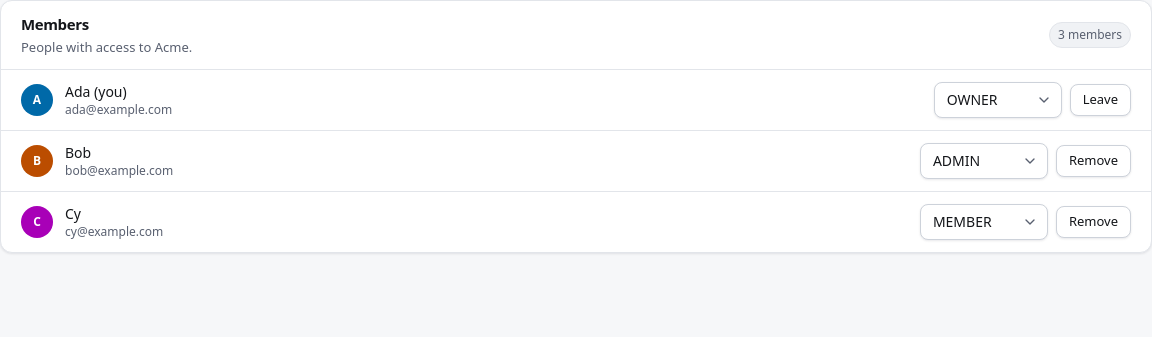
members panel › explains API rejections such as removing the last owner
Click the button "Leave" at [1100, 100], box [1070, 84, 1131, 116]
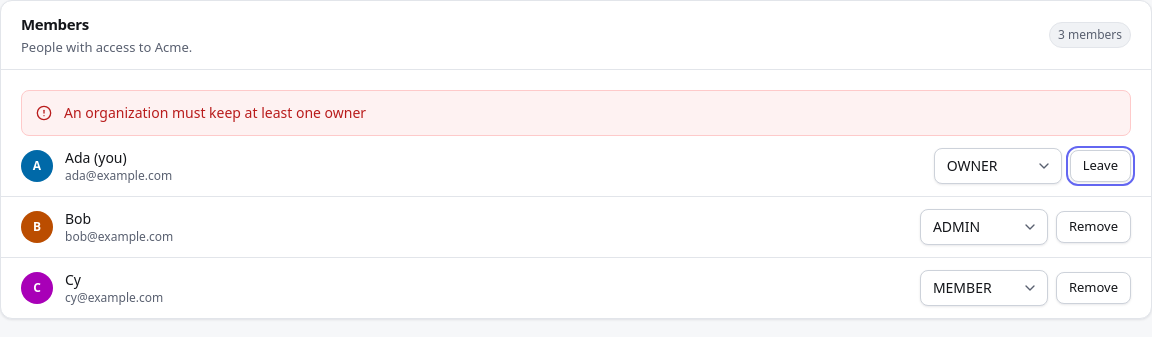
Expected: the message reads "An organization must keep at least one owner", [64, 103, 366, 122]
